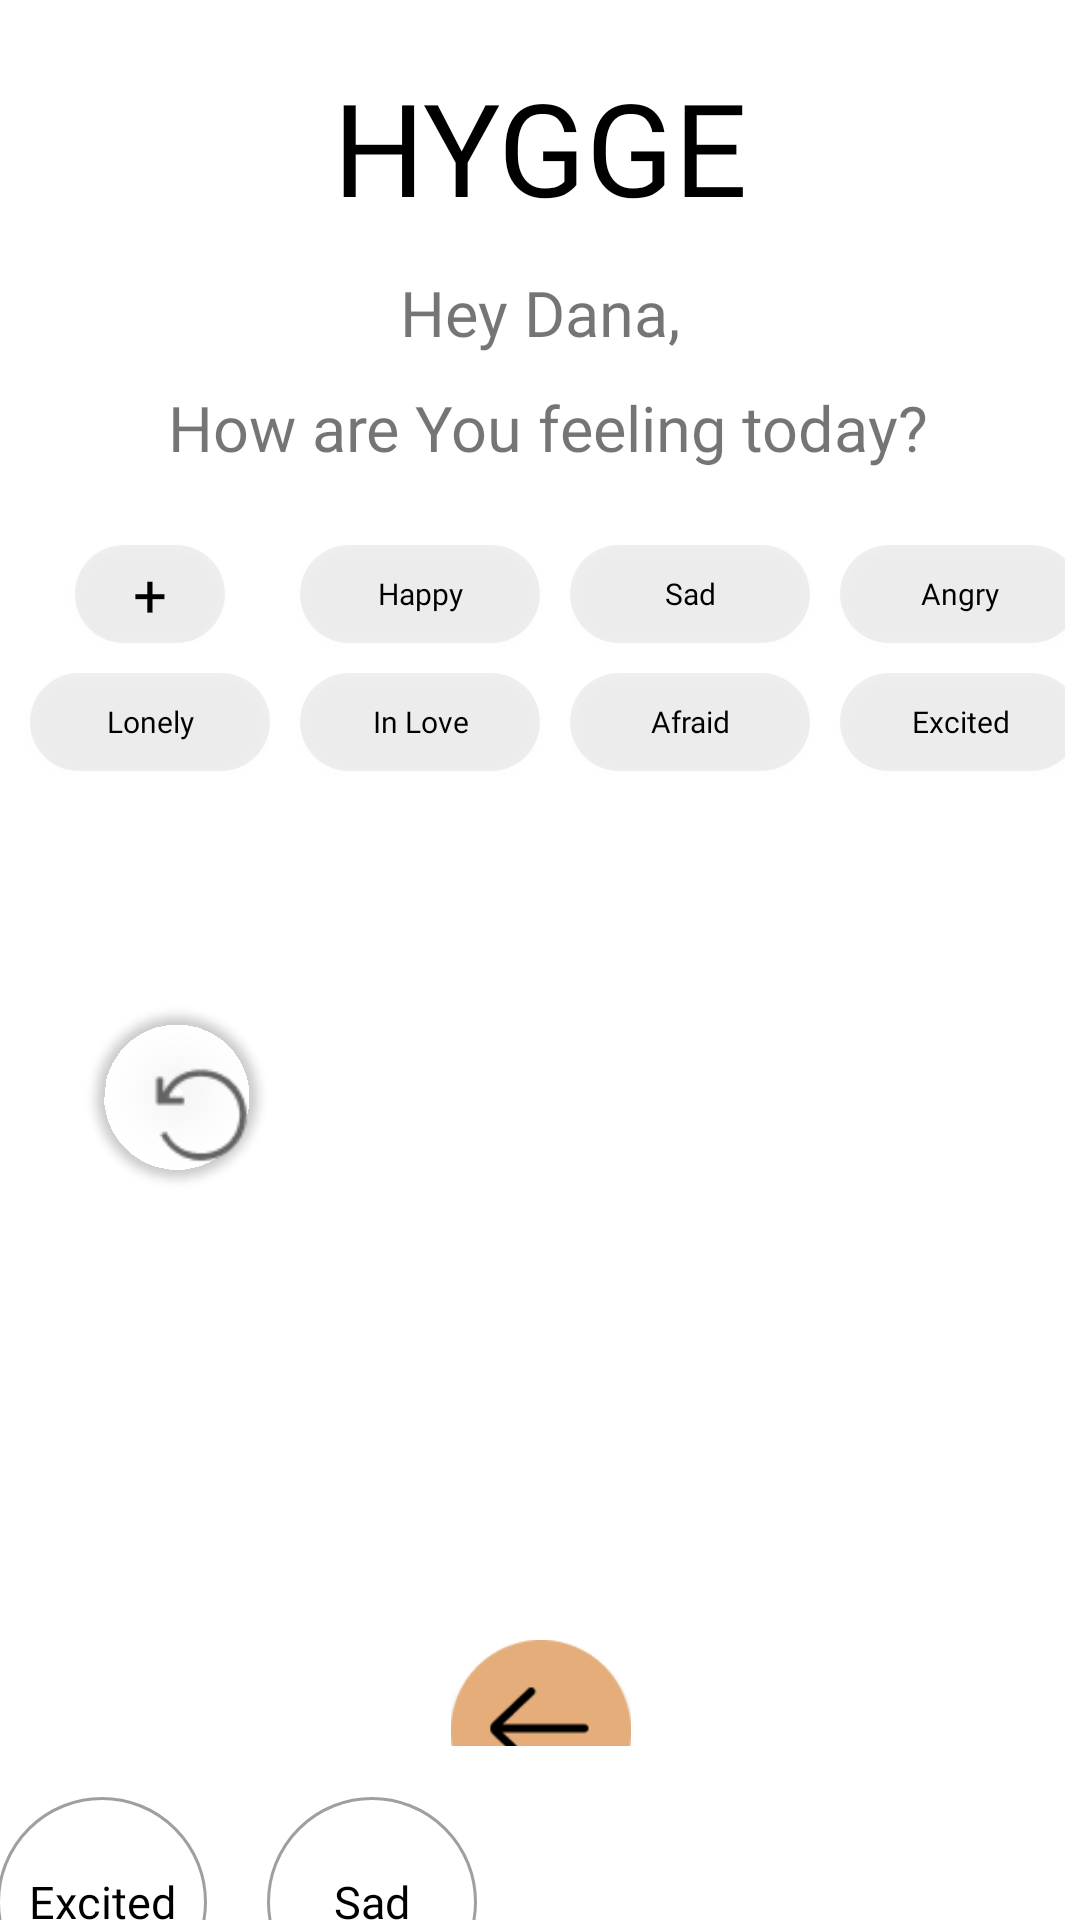

Screen size 1080×1920. Icon name, then its box in pixels as {"left": x1, "top": y1, "right": x2, "bottom": y2}:
undo: {"left": 141, "top": 1055, "right": 257, "bottom": 1175}
